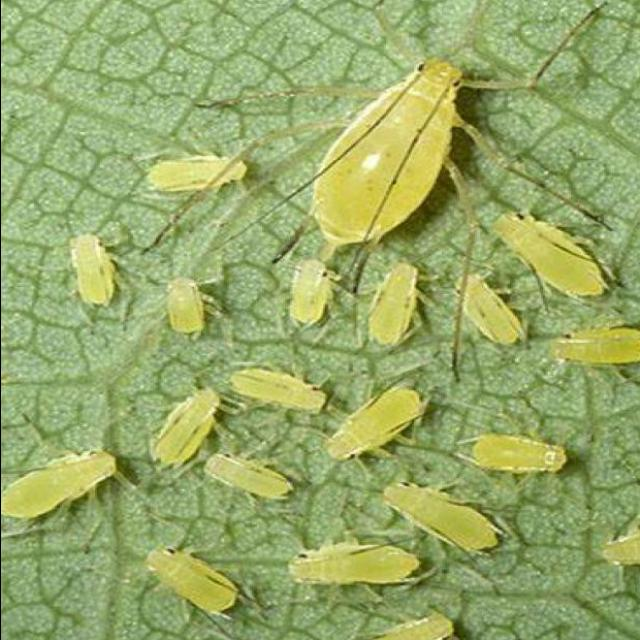Aphids: (39, 39, 640, 362), (130, 359, 596, 619), (0, 418, 128, 537)
